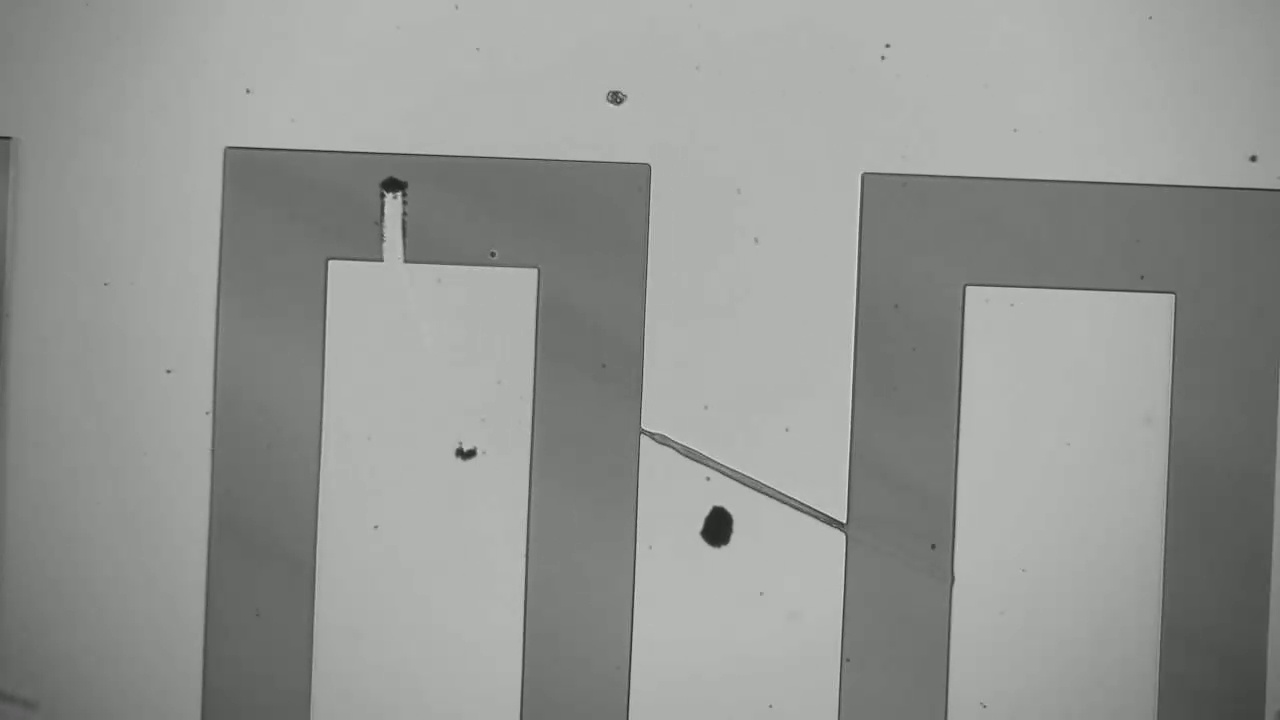Short_circuit: (362, 118, 438, 281)
